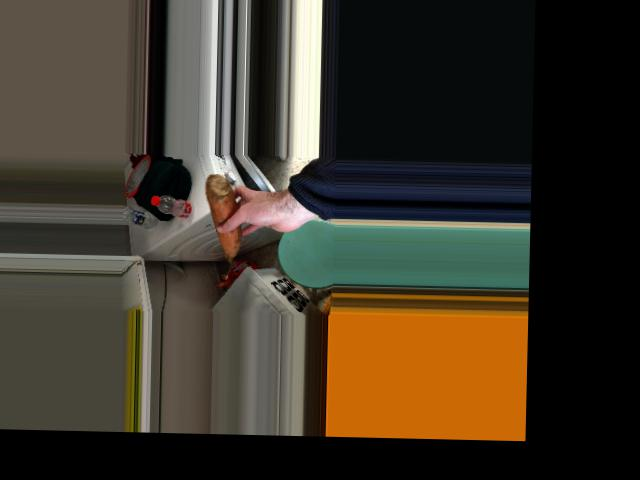sweet_potato: (209, 174, 237, 266)
